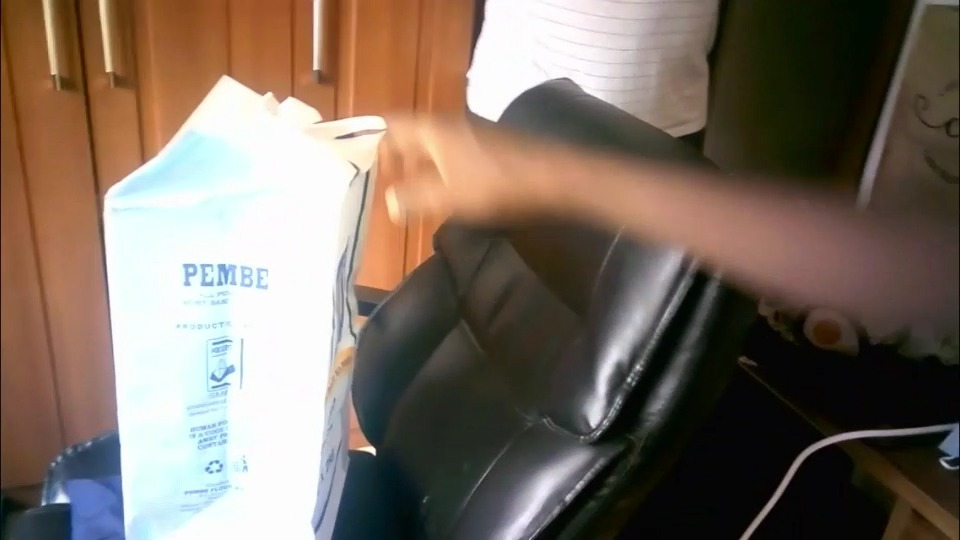wheat_flour_blue_label: (102, 78, 343, 540)
